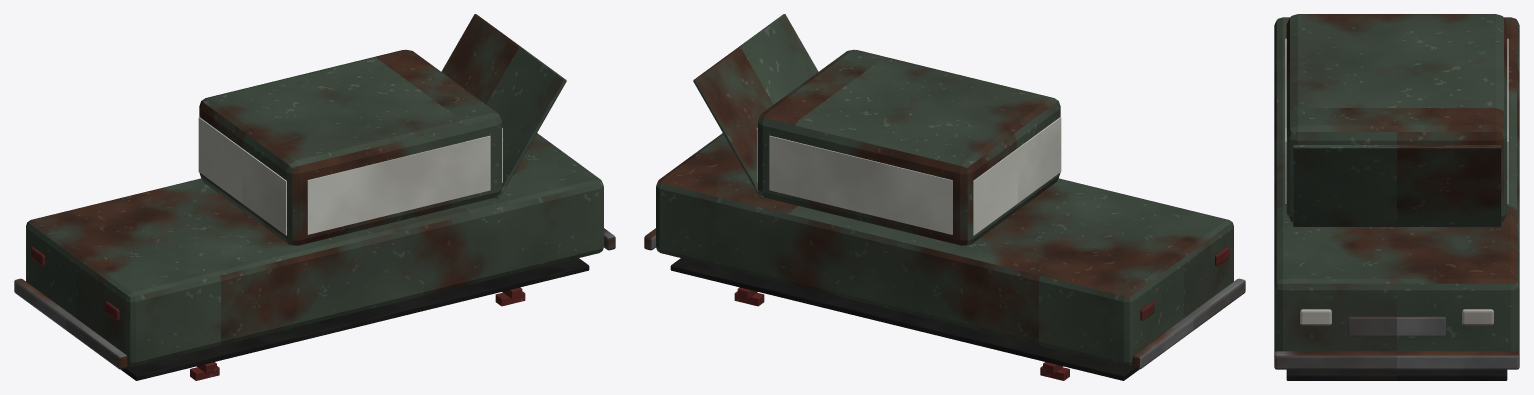
Rendered from JV04_car_on_bricks_v1.glb.
3 views of the same model, side by side, from view 1: azimuth 30°, elevation 25°; view 2: azimuth 150°, elevation 25°; view 3: azimuth 270°, elevation 25° (orthographic). The views are drawn at different scales.
Parts seen in each view (by area): view 1: JV04_car_on_bricks_v1; view 2: JV04_car_on_bricks_v1; view 3: JV04_car_on_bricks_v1.
Boxes of the visible parts, <box> form: JV04_car_on_bricks_v1: <box>14,14,615,380</box>; JV04_car_on_bricks_v1: <box>644,14,1245,380</box>; JV04_car_on_bricks_v1: <box>1274,14,1519,380</box>.
Size of the model in its own units: 4.4 by 1.78 by 1.63.
6 materials, 6 textured.
